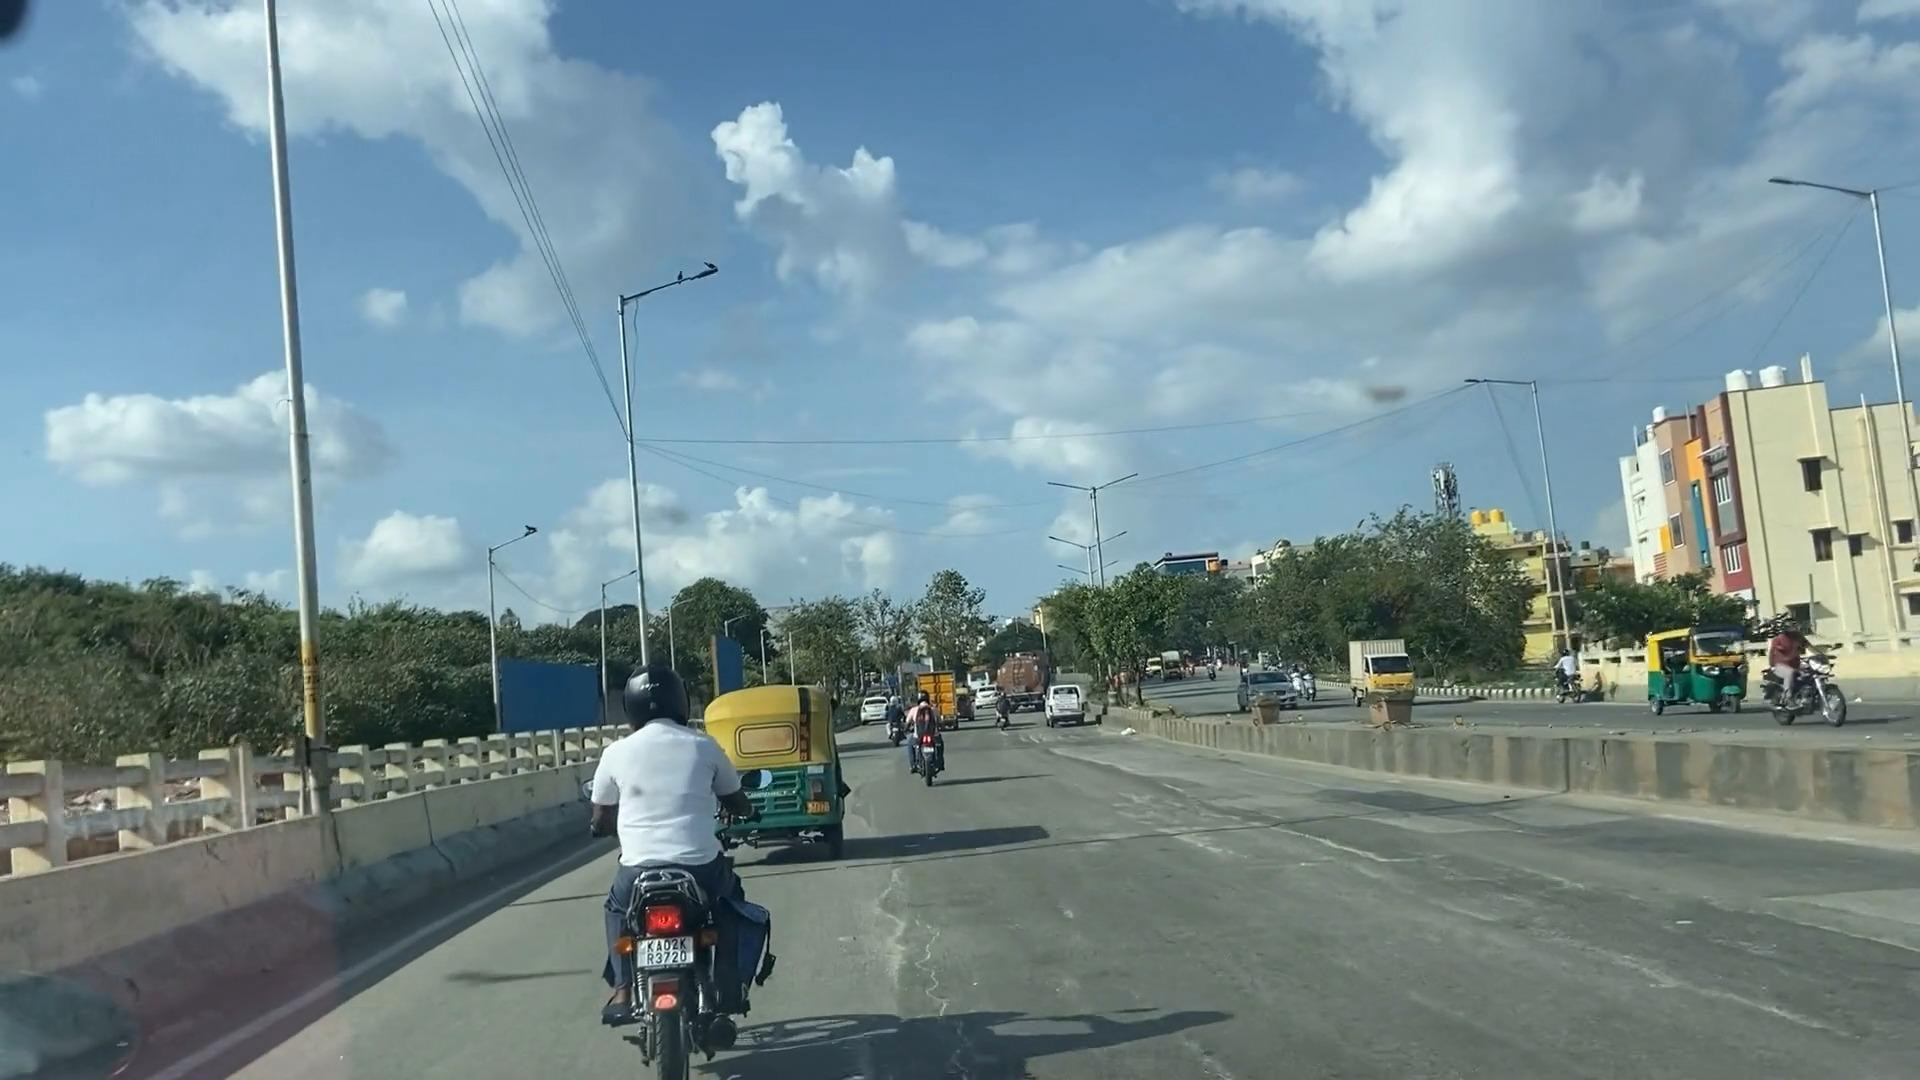RoadDamages: (1125, 786, 1511, 939), (827, 858, 990, 1072)
